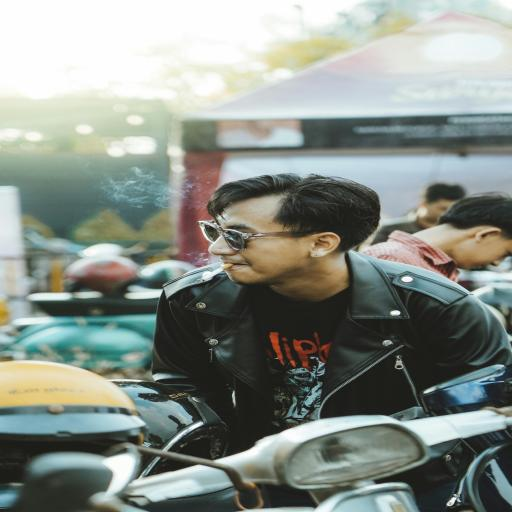terdeteksi merokok: (182, 210, 276, 292)
